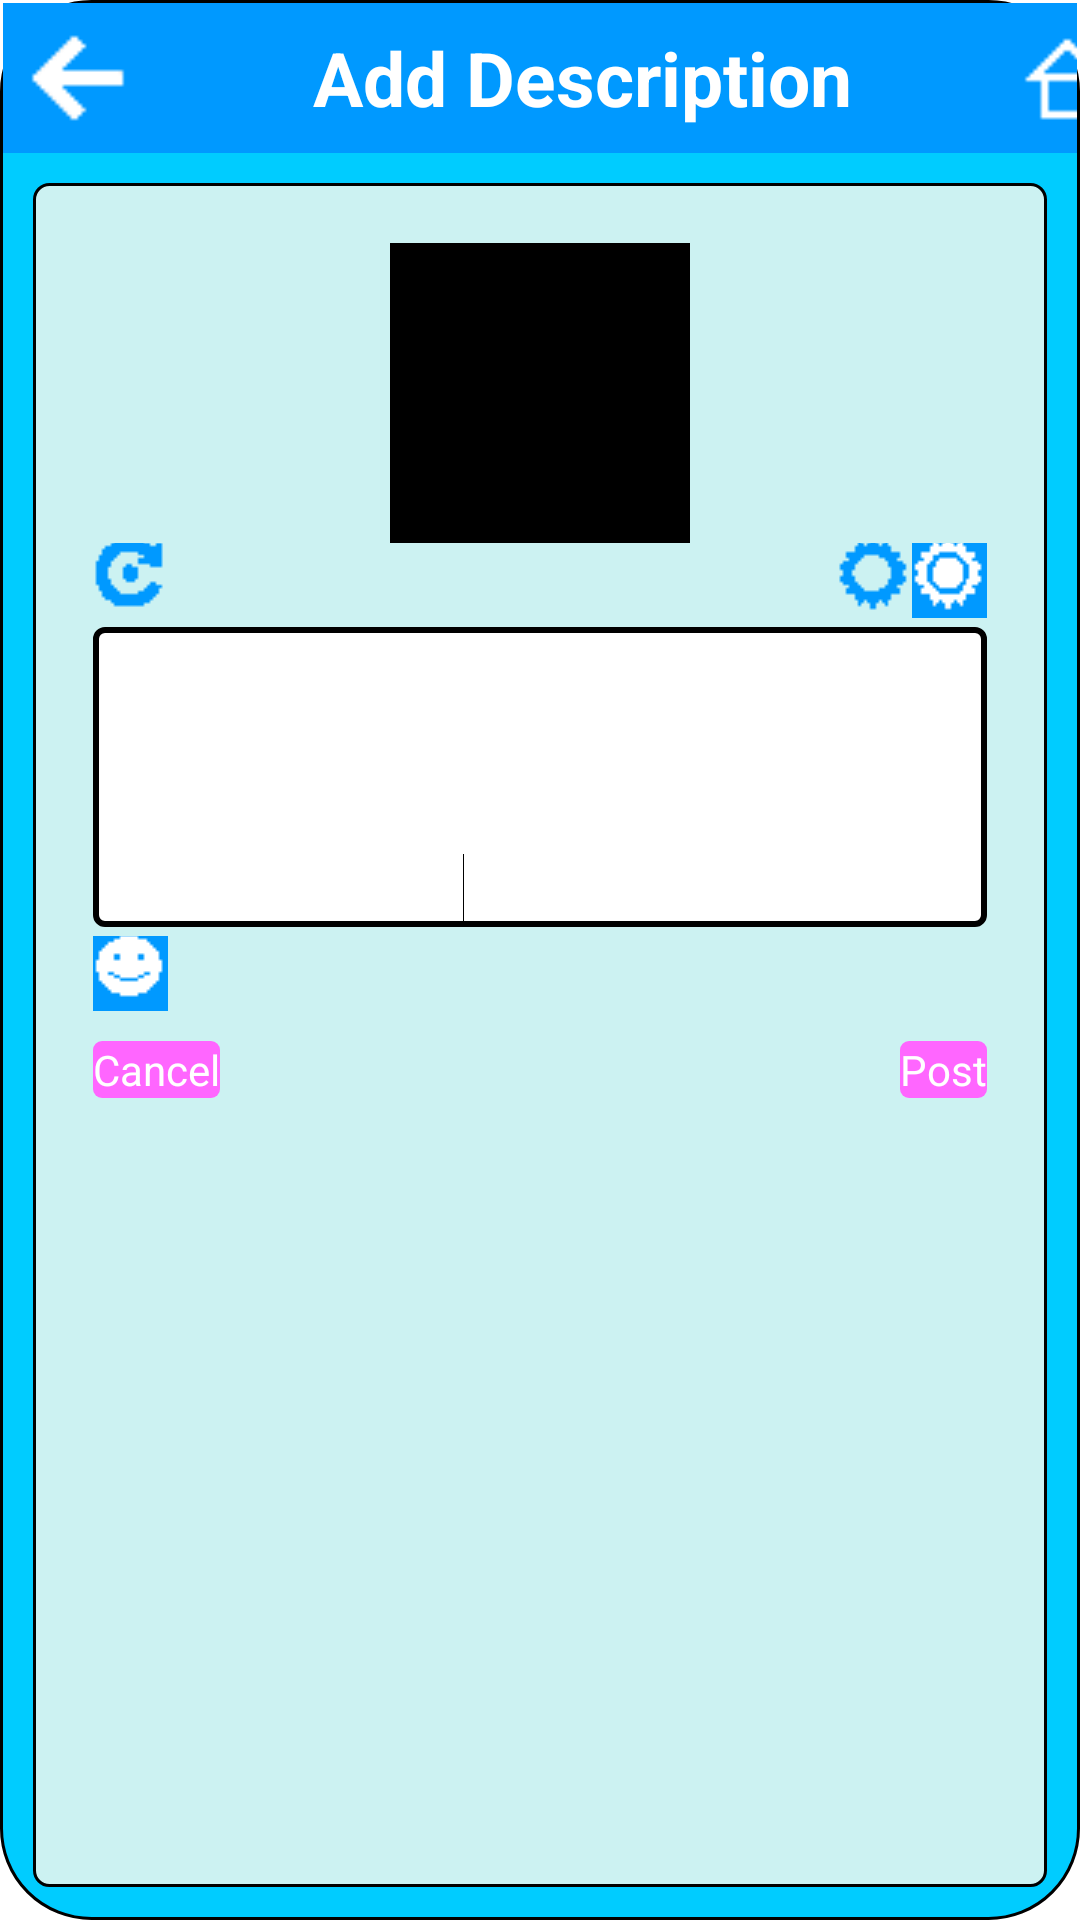

Named icons in this screenshot (1080 x 1920) and their bounding boxes, (x1, y1, x2, y2):
back: (31, 35, 125, 121)
brightness high: (912, 543, 987, 618)
brightness low: (839, 543, 907, 610)
emotion: (93, 936, 168, 1011)
rotate right: (95, 543, 163, 607)
